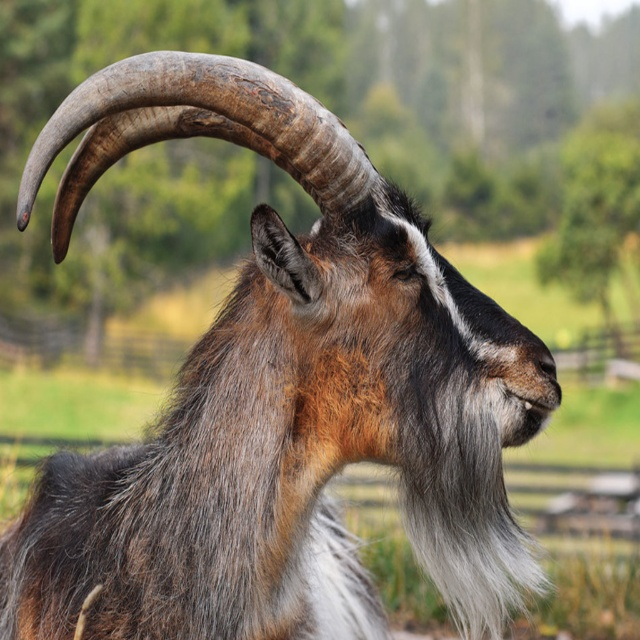Goat: (0, 51, 573, 640)
